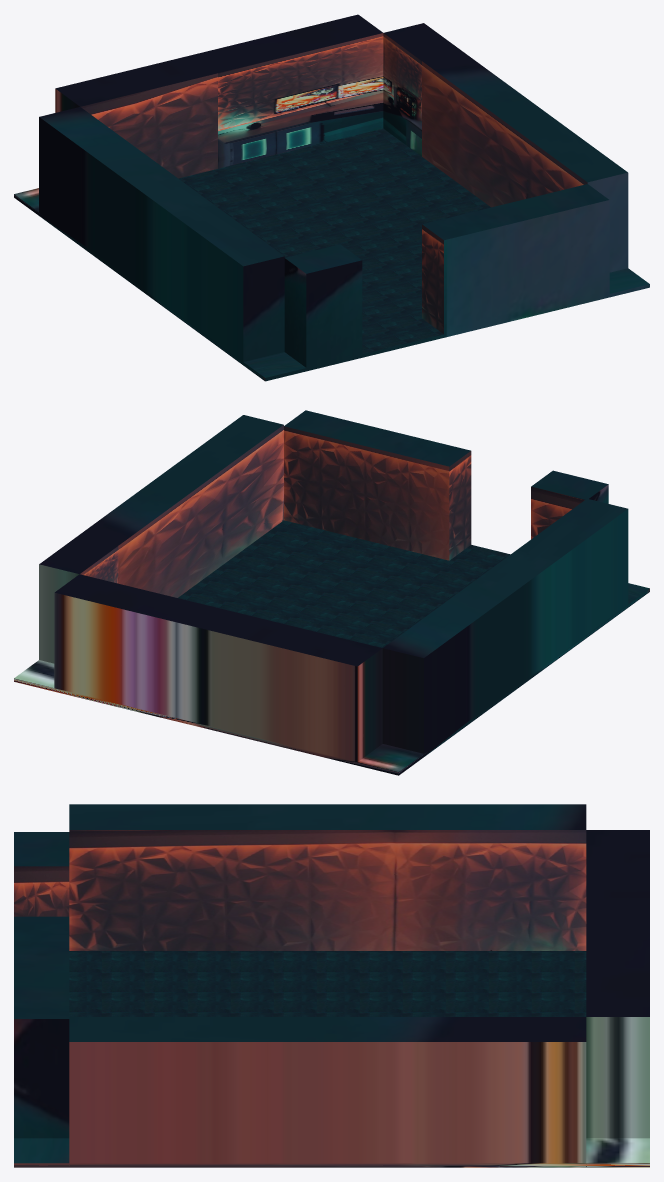
The model's file is NeonRoom.fbx.
3 renders of one model, top to bottom at view 1: azimuth 30°, elevation 25°; view 2: azimuth 150°, elevation 25°; view 3: azimuth 270°, elevation 25°, orthographic. The views are drawn at different scales.
Visible parts, largest first — view 1: Cube; view 2: Cube; view 3: Cube.
Boxes of the visible parts, <box> form: Cube: <box>14,14,649,381</box>; Cube: <box>14,410,649,775</box>; Cube: <box>14,804,649,1167</box>.
Size of the model in its own units: 1046 by 257 by 1182.
